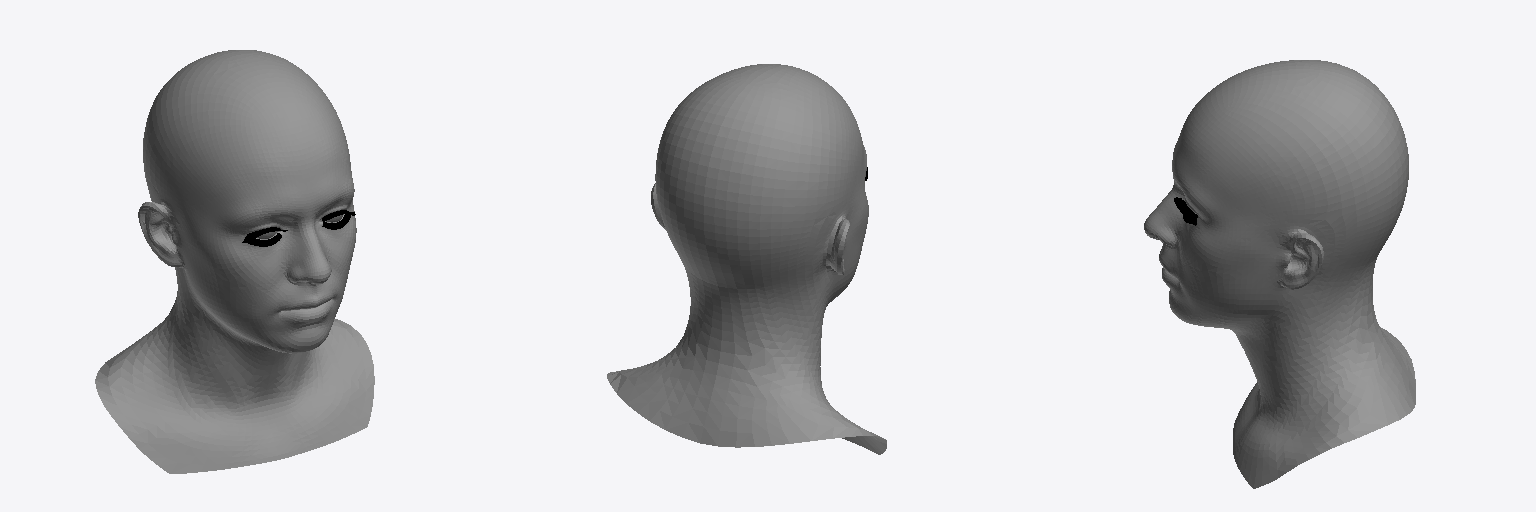
The model's file is identity093.obj.
3 renders of one model, left to right at view 1: azimuth 30°, elevation 25°; view 2: azimuth 150°, elevation 25°; view 3: azimuth 270°, elevation 25°, orthographic.
Size of the model in its own units: 24.83 by 33.81 by 22.33.